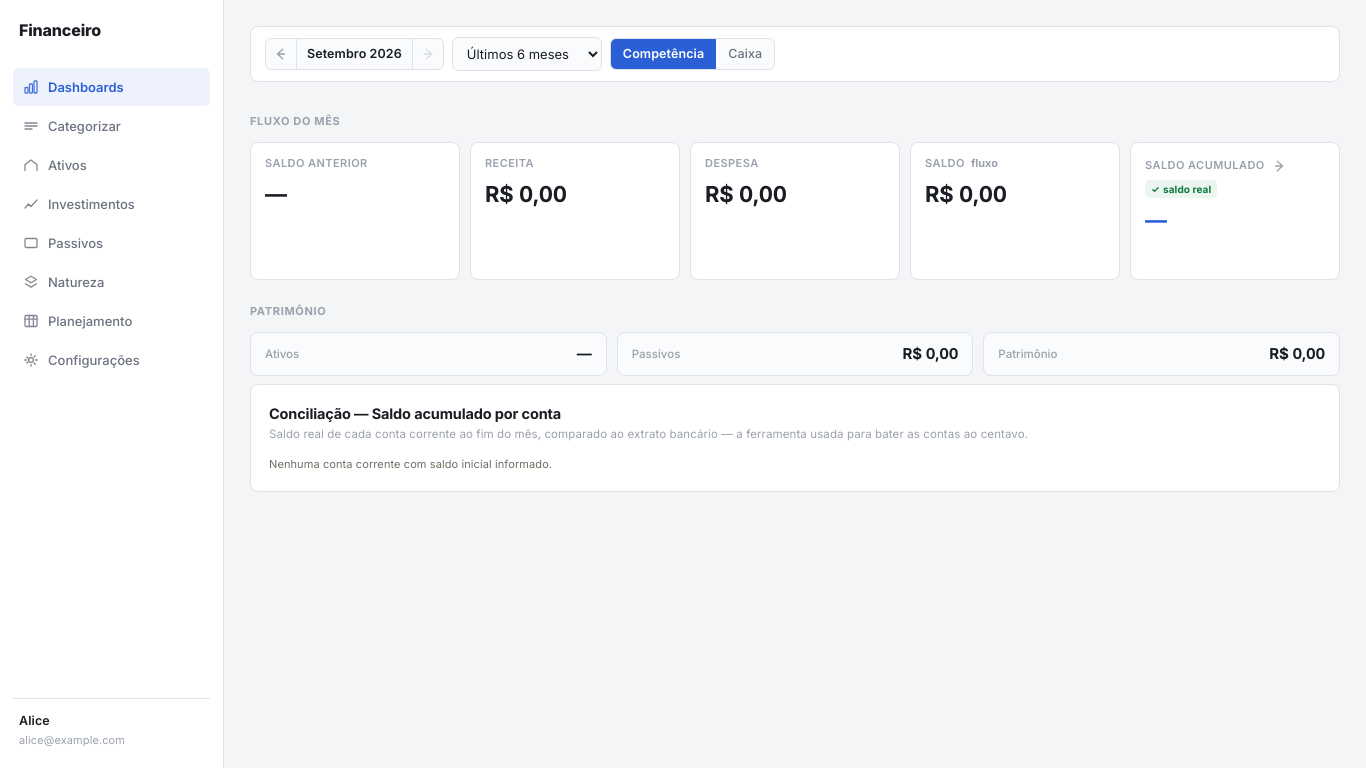
it: ProtectedPage navigation › switches to the Configurações tab and renders ConfiguracoesPage
Click the button "Configurações" at (112, 360), box [13, 341, 210, 379]
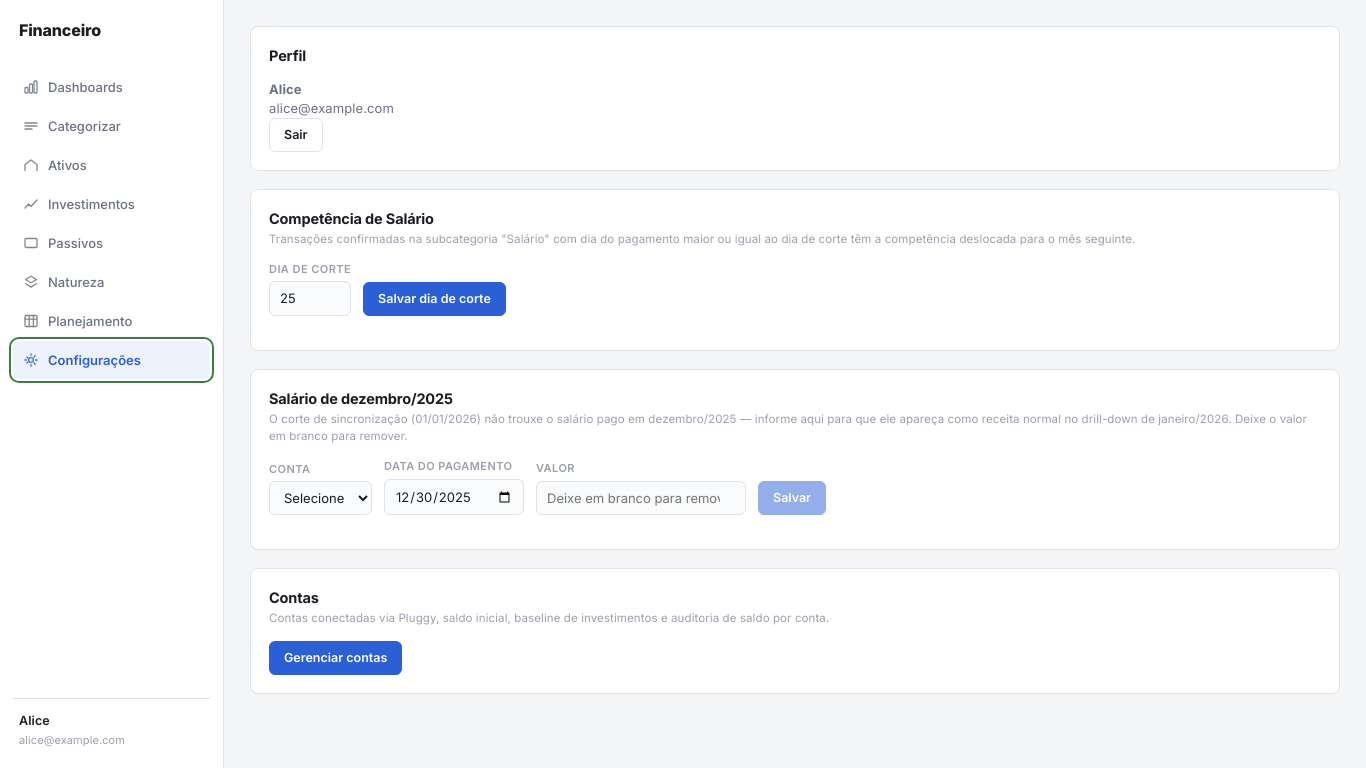
expect the heading "Perfil" is shown: met, box [269, 45, 306, 66]
expect the button "Gerenciar contas" is shown: met, box [269, 641, 402, 675]
